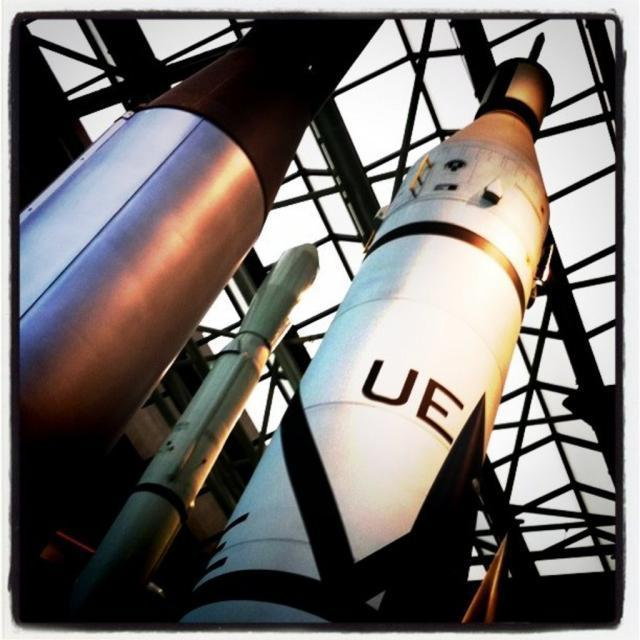missile: (53, 217, 358, 627)
